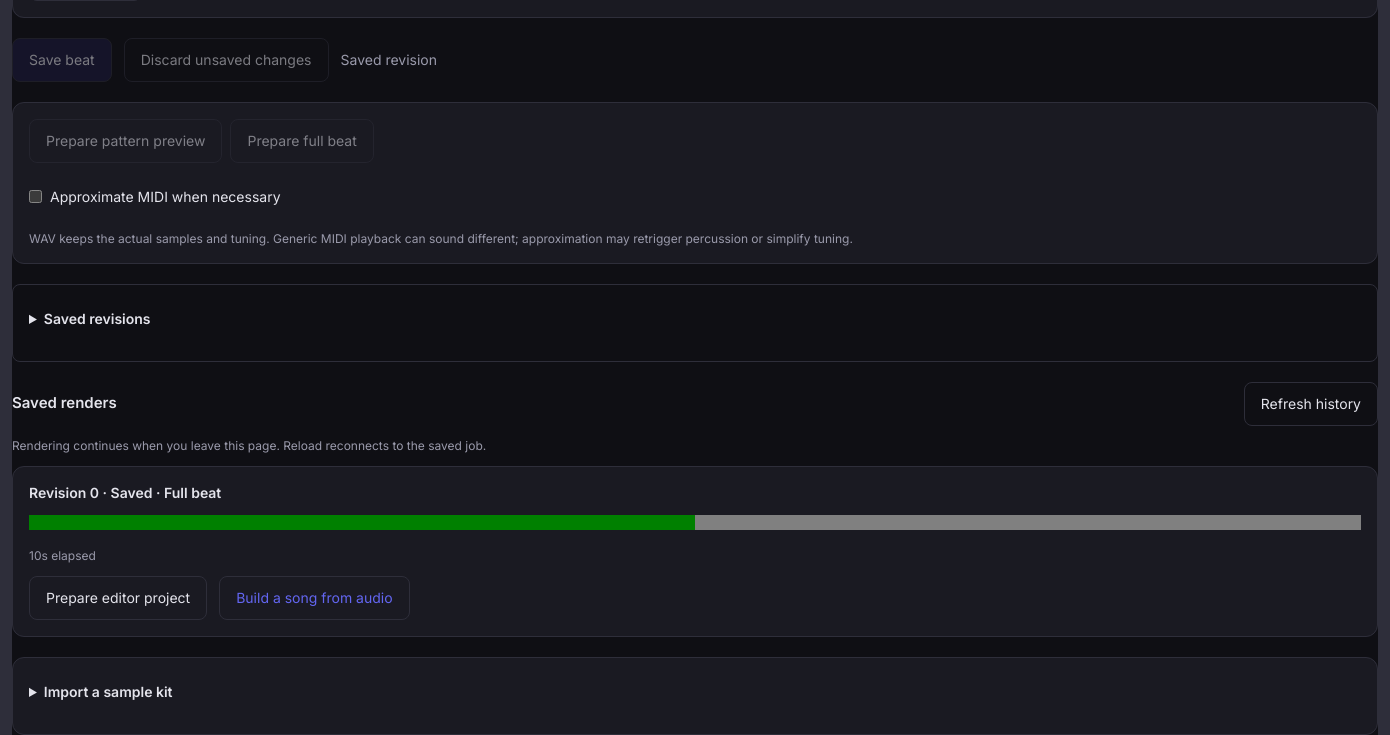
prepares an editor project only from a completed full render and does not show a finished ETA
(page scrolled)
What coordinates should you click on to do the following:
click the button "Prepare editor project"
I would click on:
 (118, 598)
Its box is [29,576,207,620].
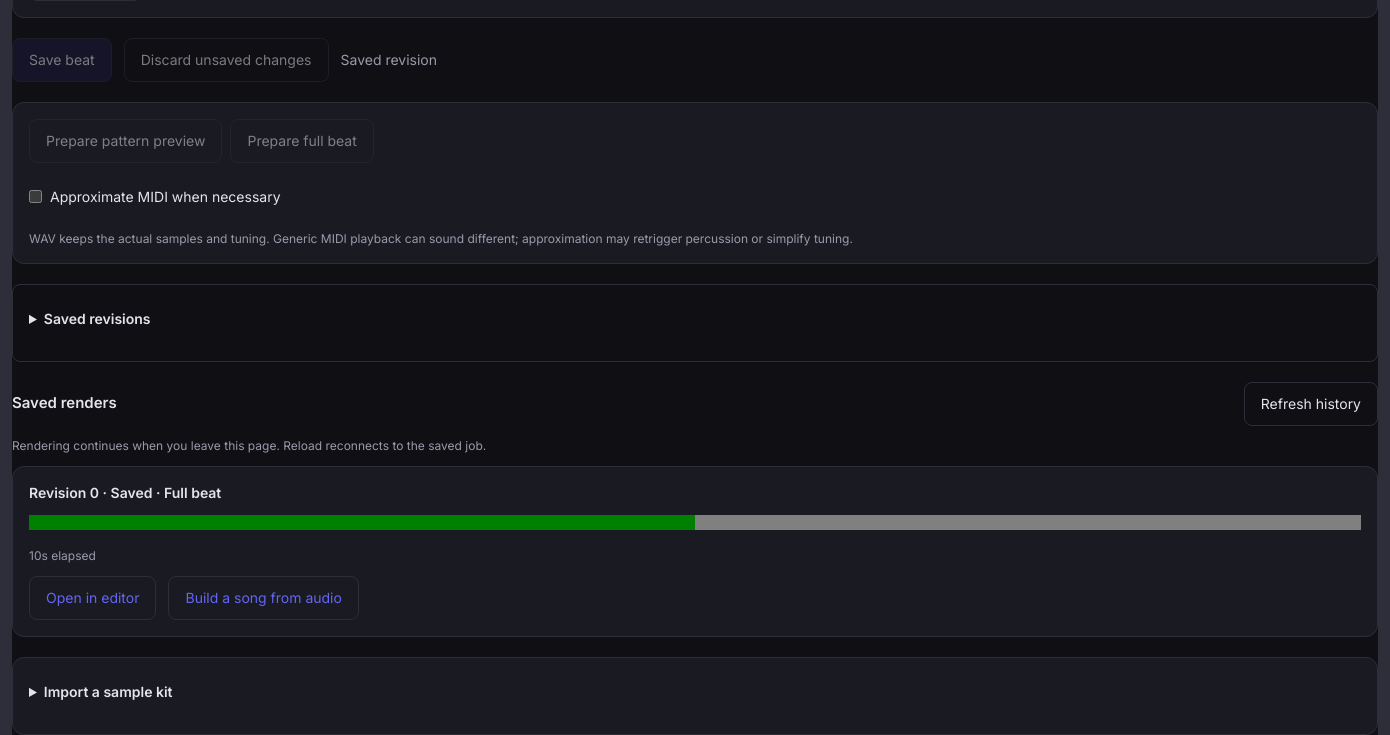
Check: the link to "/editor/17" reads "Open in editor", box [29,576,156,620]
